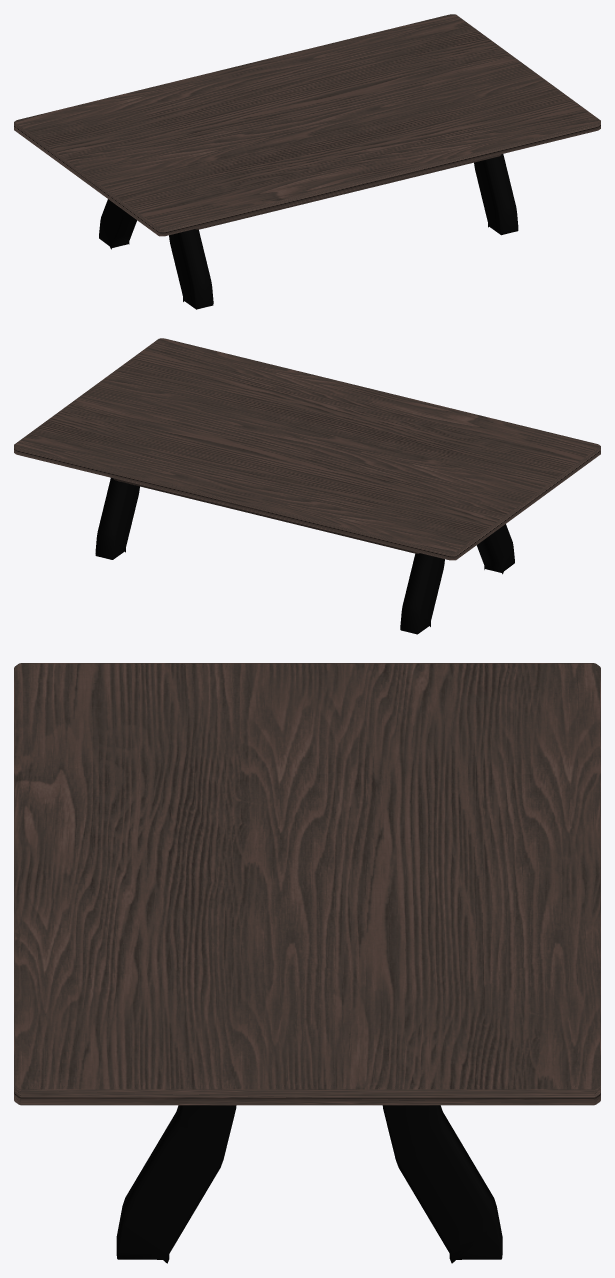
File: MODERN_TABLE.glb
The picture shows the model from 3 angles, top to bottom: view 1: azimuth 30°, elevation 25°; view 2: azimuth 150°, elevation 25°; view 3: azimuth 270°, elevation 25°; orthographic projection. The views are drawn at different scales.
Parts seen in each view (by area): view 1: SUPPORT UP, LEGS, SUPPORT DOWN; view 2: SUPPORT UP, LEGS, SUPPORT DOWN; view 3: SUPPORT UP, LEGS.
Boxes of the visible parts, left/top/right/bottom form: SUPPORT UP: left=14, top=14, right=600, bottom=236; LEGS: left=99, top=154, right=518, bottom=309; SUPPORT DOWN: left=195, top=154, right=501, bottom=229; SUPPORT UP: left=14, top=338, right=600, bottom=560; LEGS: left=95, top=478, right=514, bottom=634; SUPPORT DOWN: left=113, top=478, right=419, bottom=553; SUPPORT UP: left=14, top=663, right=600, bottom=1105; LEGS: left=116, top=1105, right=502, bottom=1263.
Size of the model in its own units: 3.5 by 0.8778 by 2.03.
4 materials, 3 textured.
